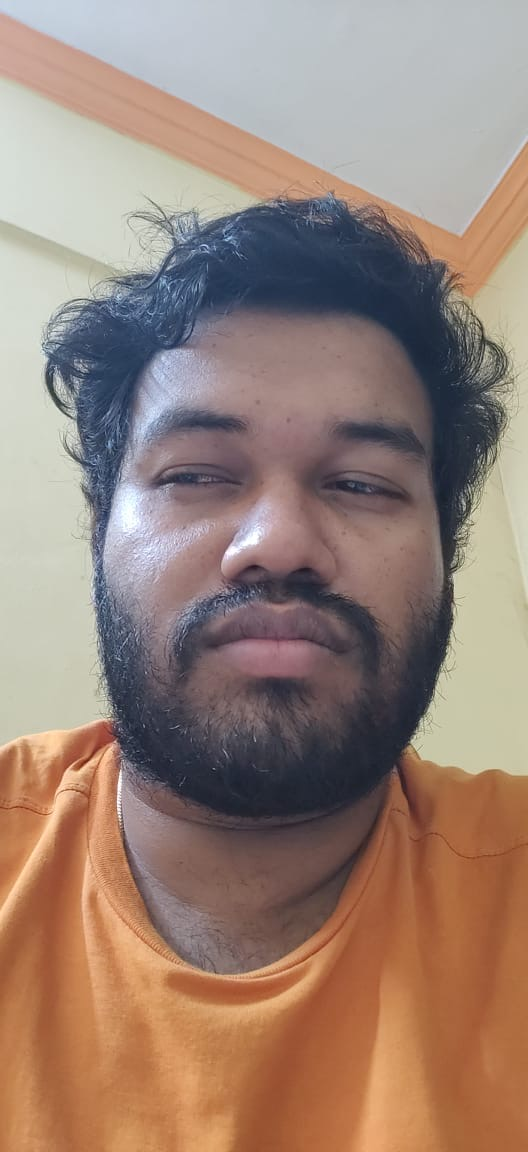Half Asleep: (132, 433, 436, 532)
